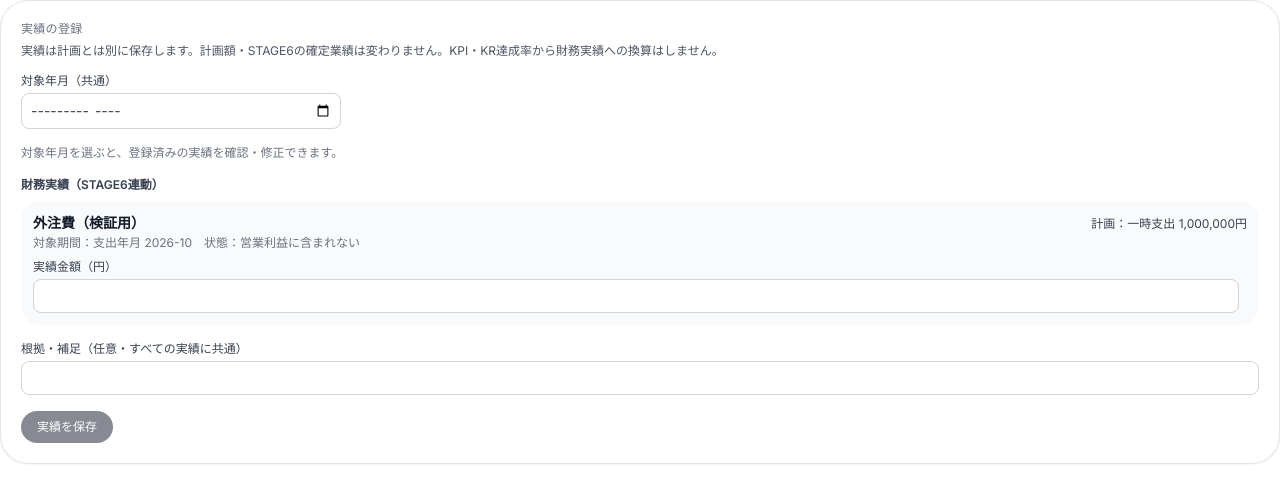
Test: 実績の登録（ActualRegistrationSection） › 空欄は保存せず、0 は 0円として保存する（0円と未入力を区別する）
The width and height of the screenshot is (1280, 481).
Type "2026-11" into the field labelled "対象年月" at [181, 111], box top-left (21, 93), bottom-right (341, 129)
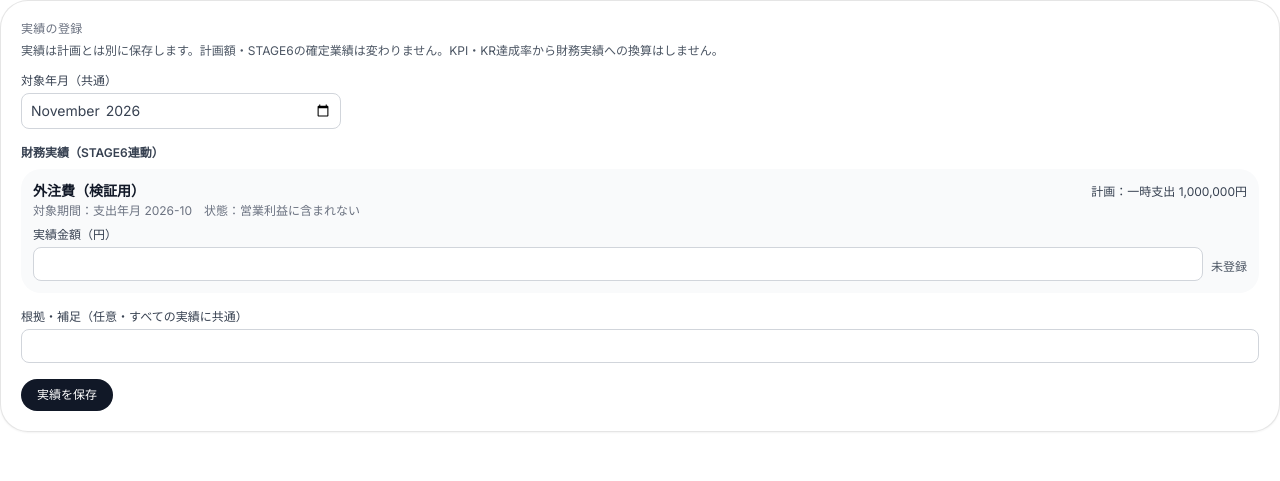
Click the button "実績を保存" at [67, 395], box top-left (21, 379), bottom-right (113, 411)
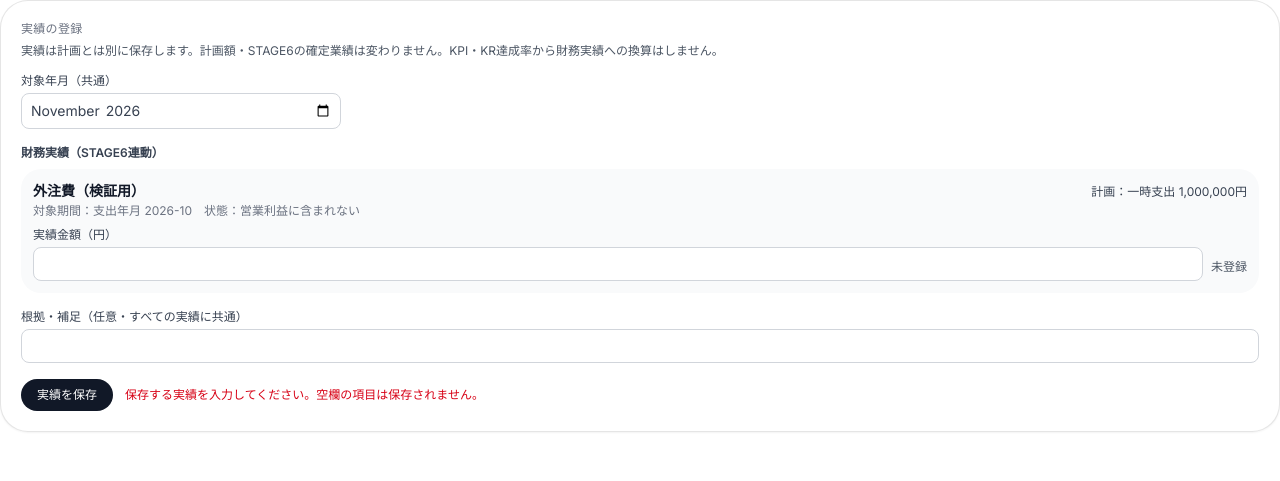
expect the message shows "保存する実績を入力してください": met, box top-left (125, 387), bottom-right (484, 402)
Type "0" into the field named "外注費（検証用）の実績金額" at [618, 264], box top-left (33, 247), bottom-right (1203, 281)
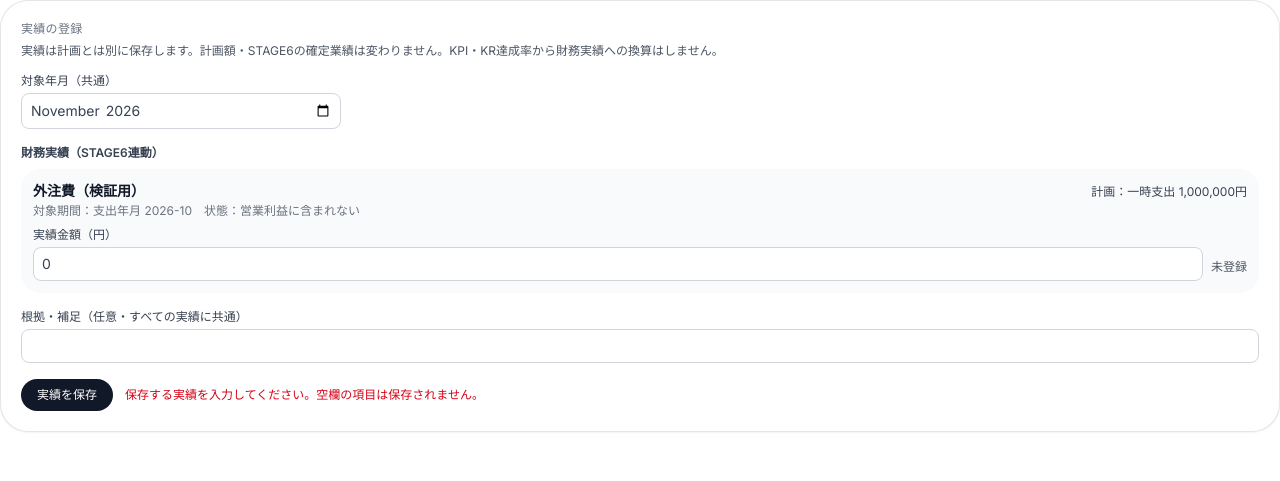
Click the button "実績を保存" at [67, 395], box top-left (21, 379), bottom-right (113, 411)
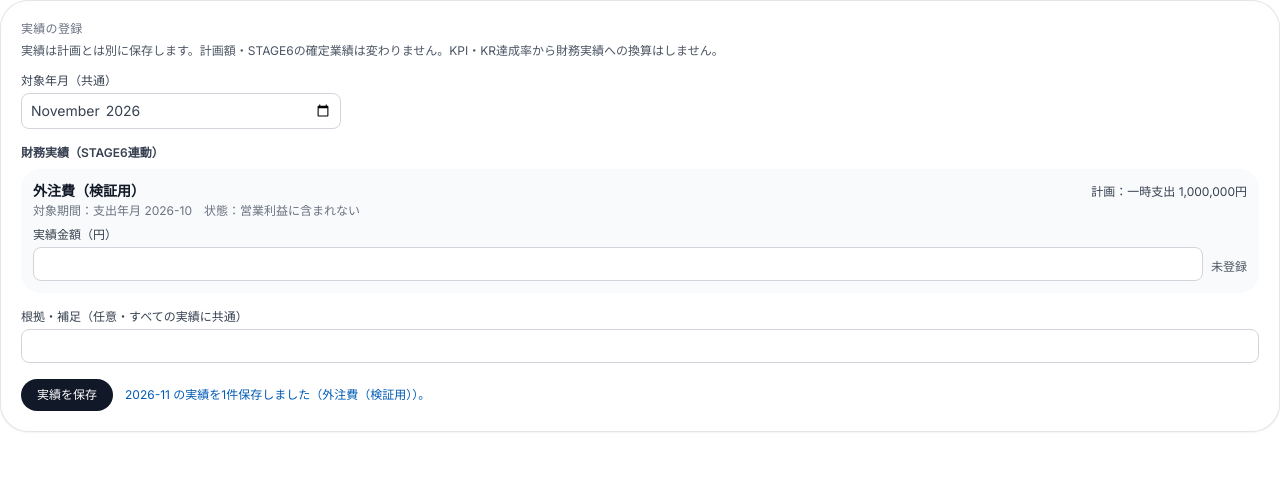
expect the message shows "1件保存しました": met, box top-left (125, 387), bottom-right (430, 402)
